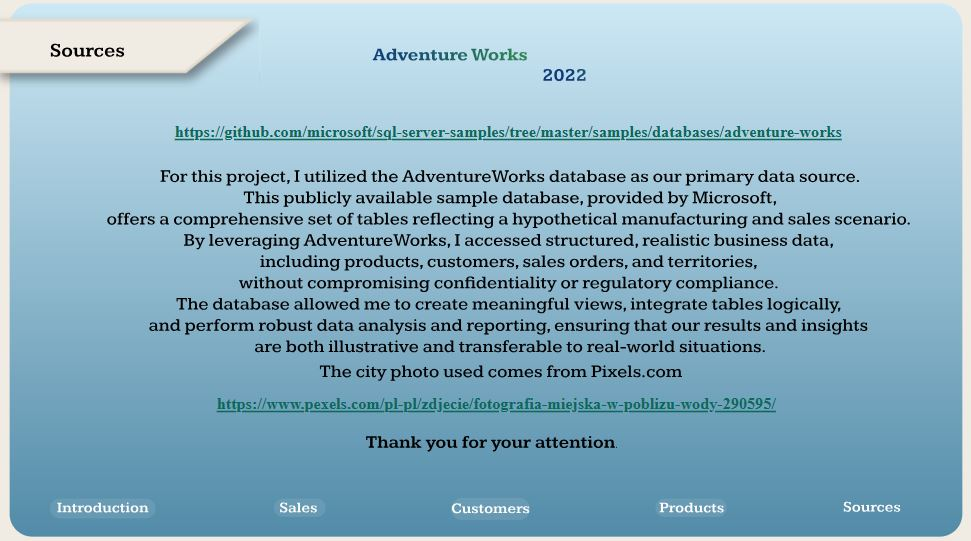

The page's visual inventory and layout, read from the dashboard file:
{"tool":"powerbi","page":{"name":"Sources","canvas":[1280,720],"ordinal":4},"visuals":[{"type":"actionButton","box":[13.6,218.2,123.6,35.5],"z":0},{"type":"actionButton","box":[13.6,263.6,123.6,42.7],"z":1000},{"type":"actionButton","box":[13.6,310,137.3,34.5],"z":2000},{"type":"actionButton","box":[13.6,122.7,123.6,37.3],"z":3000},{"type":"actionButton","box":[11.8,169.1,123.6,37.3],"z":4000},{"type":"textbox","box":[224.8,159.4,893.4,41.6],"z":5000},{"type":"textbox","box":[280.7,517.5,781.6,40.4],"z":6000},{"type":"actionButton","box":[62.5,654.3,123.8,36.9],"z":7000},{"type":"actionButton","box":[363.3,653.3,67.8,36.7],"z":8000},{"type":"actionButton","box":[583.3,654.4,124.4,36.7],"z":9000},{"type":"actionButton","box":[862.2,654.4,91.1,35.6],"z":10000}]}

Visuals, with their boxes in screenshot pixels (x1, y1, x2, y2), scaled from the page's 1280x720 canvas onto the 971x541 screenshot:
actionButton: (10, 164, 104, 191)
actionButton: (10, 198, 104, 230)
actionButton: (10, 233, 114, 259)
actionButton: (10, 92, 104, 120)
actionButton: (9, 127, 103, 155)
textbox: (171, 120, 848, 151)
textbox: (213, 389, 806, 419)
actionButton: (47, 492, 141, 519)
actionButton: (276, 491, 327, 518)
actionButton: (442, 492, 537, 519)
actionButton: (654, 492, 723, 518)
